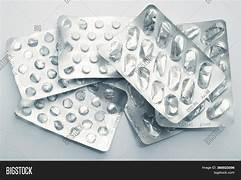pill_Strip: (98, 5, 224, 122), (15, 79, 181, 144), (156, 20, 233, 127), (15, 83, 126, 150), (7, 29, 95, 99), (104, 79, 181, 144), (57, 15, 128, 78)
